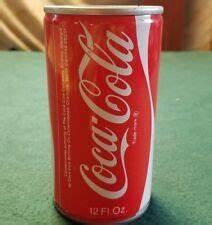metal: (44, 5, 162, 224)
